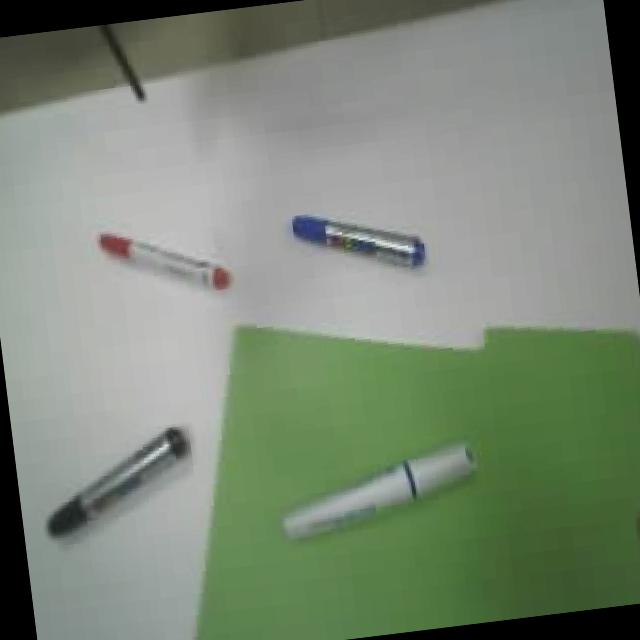board-marker: (282, 442, 474, 536), (46, 426, 188, 536), (290, 214, 425, 266), (99, 233, 228, 286)
